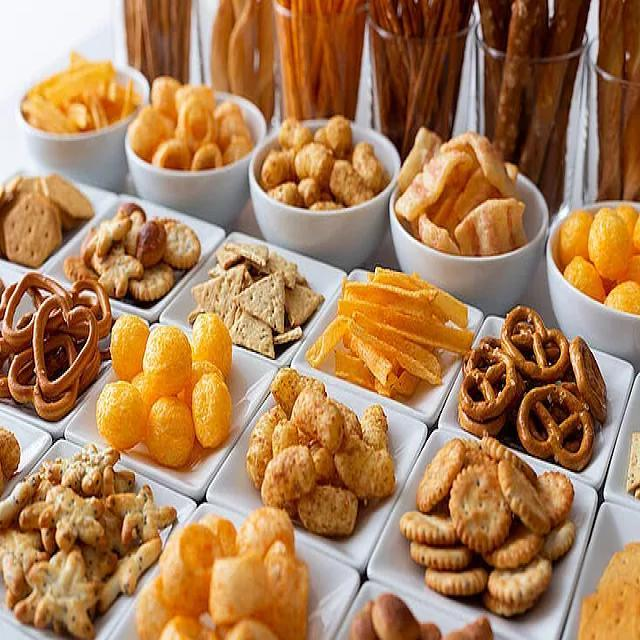Chips packaged: (249, 370, 386, 535), (319, 255, 469, 404), (107, 324, 232, 463)
Salatini: (12, 459, 151, 633), (467, 312, 597, 461), (3, 267, 104, 411), (77, 192, 196, 307)
